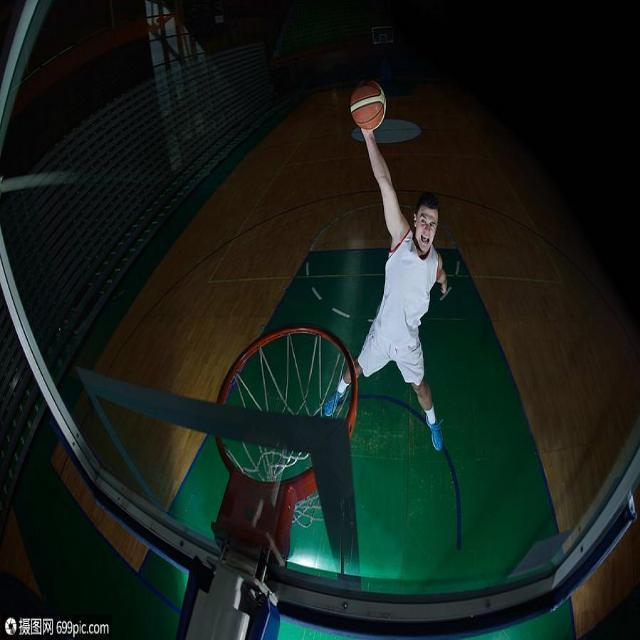rim: (352, 83, 386, 131)
